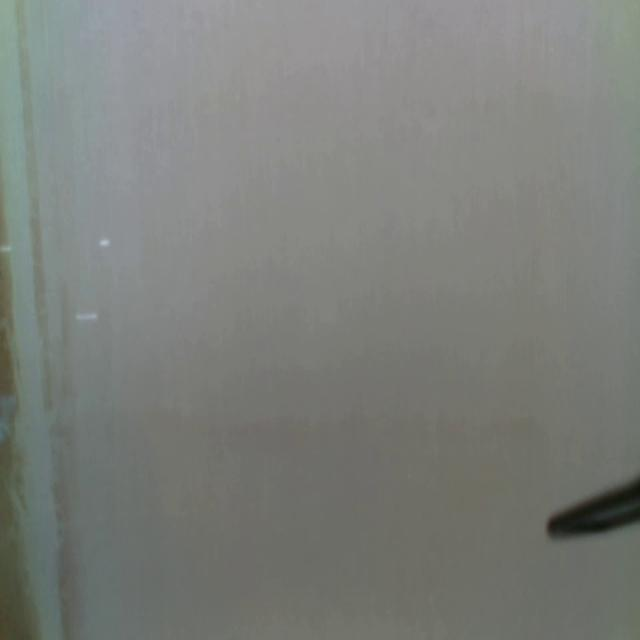color bleeding: (0, 1, 80, 640)
